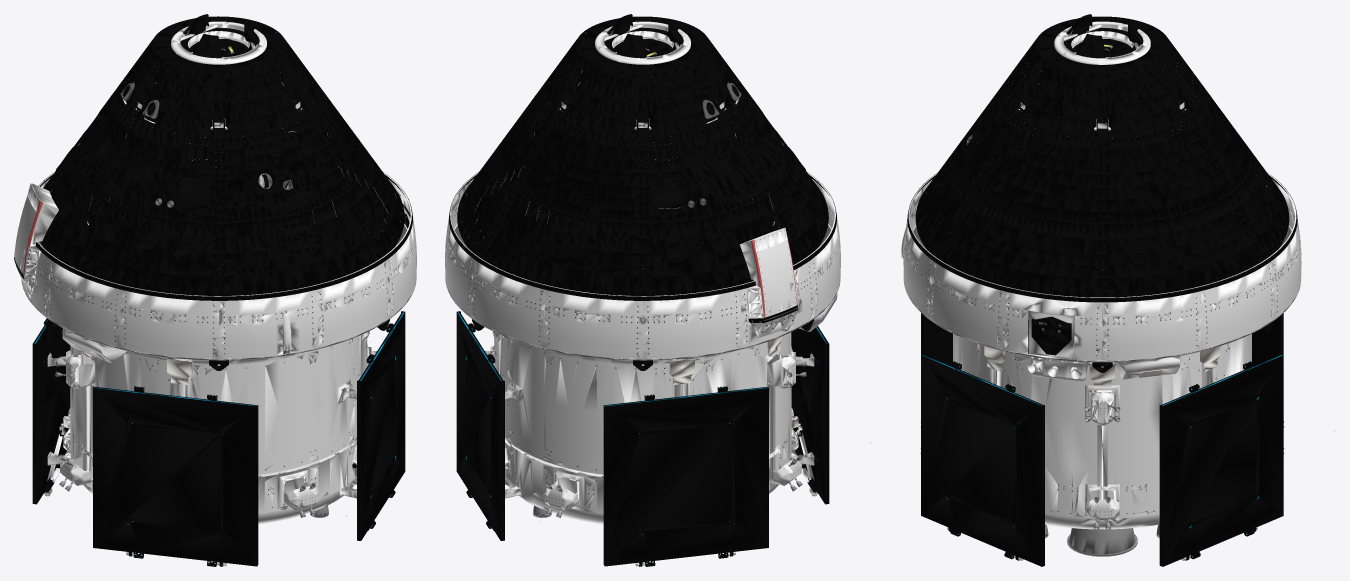
Rendered from orion.glb.
The picture shows the model from 3 angles, left to right: view 1: azimuth 30°, elevation 25°; view 2: azimuth 150°, elevation 25°; view 3: azimuth 270°, elevation 25°; orthographic projection.
Visible parts, largest first — view 1: area_light; view 2: area_light; view 3: area_light.
Part boxes in pixels (left/top/right/bottom): area_light: left=14, top=14, right=416, bottom=566; area_light: left=445, top=14, right=840, bottom=566; area_light: left=870, top=14, right=1334, bottom=566.
Bounding box in the file's own units: 5.41 × 7.68 × 6.27.
Materials: 10 (10 with a texture image).
